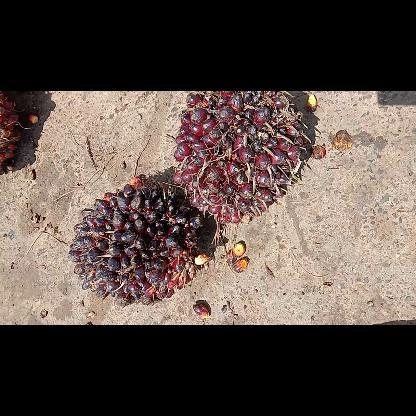Kurang masak: (171, 91, 319, 227), (65, 174, 213, 308)
